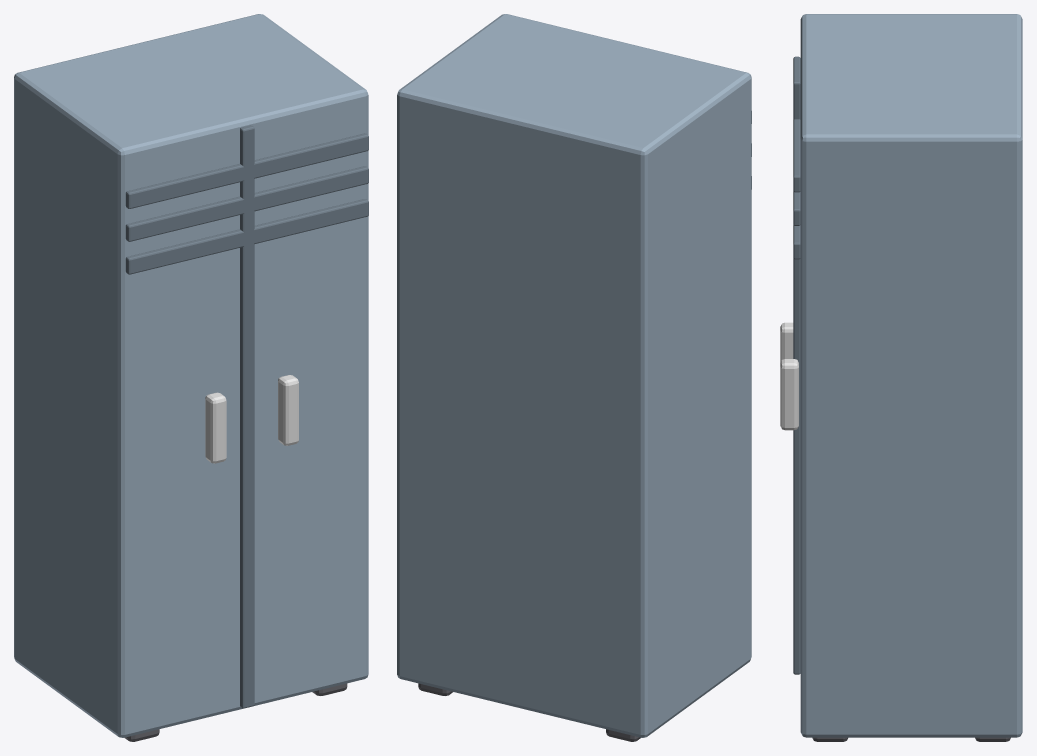
Rendered from шкафчик.glb.
The picture shows the model from 3 angles, left to right: view 1: azimuth 30°, elevation 25°; view 2: azimuth 150°, elevation 25°; view 3: azimuth 270°, elevation 25°; orthographic projection. The views are drawn at different scales.
Parts seen in each view (by area): view 1: шкафчик; view 2: шкафчик; view 3: шкафчик.
Boxes of the visible parts, <box> form: шкафчик: <box>14,14,368,741</box>; шкафчик: <box>397,14,751,741</box>; шкафчик: <box>780,14,1022,741</box>.
Size of the model in its own units: 0.8 by 1.84 by 0.655.
